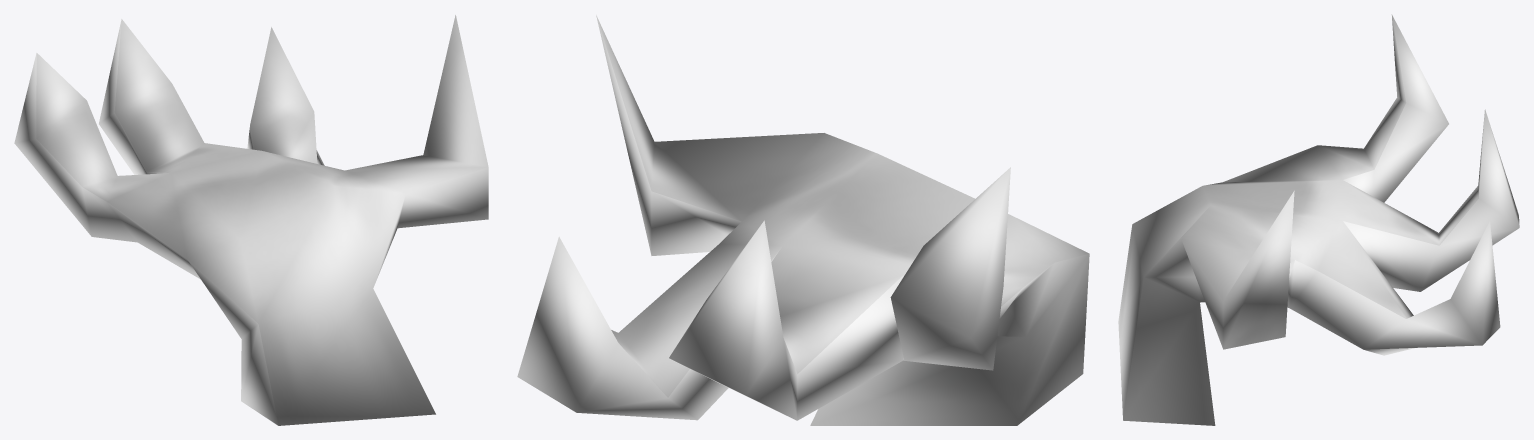
Rendered from Model_ZhuaZi.FBX.
3 views of the same model, side by side, from view 1: azimuth 30°, elevation 25°; view 2: azimuth 150°, elevation 25°; view 3: azimuth 270°, elevation 25° (orthographic). The views are drawn at different scales.
Visible parts, largest first — view 1: Model_ZhuaZi; view 2: Model_ZhuaZi; view 3: Model_ZhuaZi.
Part boxes in pixels (x1,y1,x2,y2): Model_ZhuaZi: (14, 15, 488, 425); Model_ZhuaZi: (517, 15, 1089, 425); Model_ZhuaZi: (1118, 14, 1519, 425).
Bounding box in the file's own units: 1.42 × 1.21 × 1.46.
